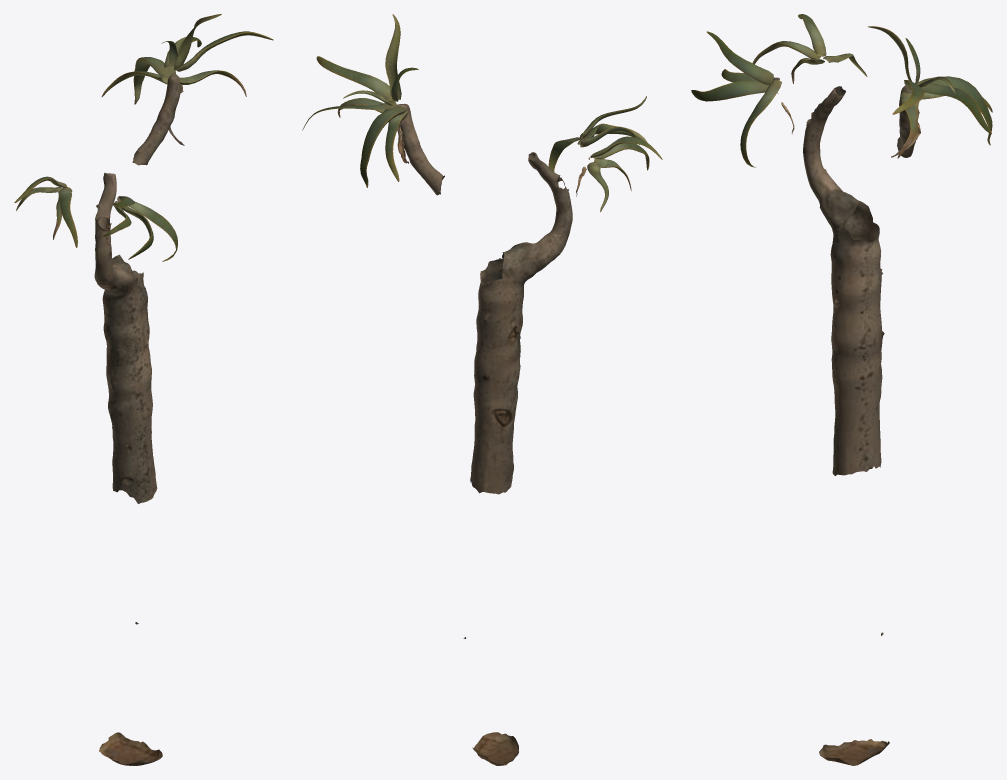
The model's file is quiver_tree.glb.
The picture shows the model from 3 angles, left to right: view 1: azimuth 30°, elevation 25°; view 2: azimuth 150°, elevation 25°; view 3: azimuth 270°, elevation 25°; orthographic projection. The views are drawn at different scales.
Visible parts, largest first — view 1: quiver_tree_01; view 2: quiver_tree_01; view 3: quiver_tree_01.
Part boxes in pixels (bbox=[...]): quiver_tree_01: bbox=[14, 14, 273, 765]; quiver_tree_01: bbox=[302, 14, 662, 765]; quiver_tree_01: bbox=[691, 14, 992, 765].
Bounding box in the file's own units: 1.18 × 2.69 × 0.9381.
2 materials, 2 textured.
